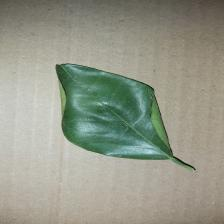healthy: (53, 62, 178, 162)
